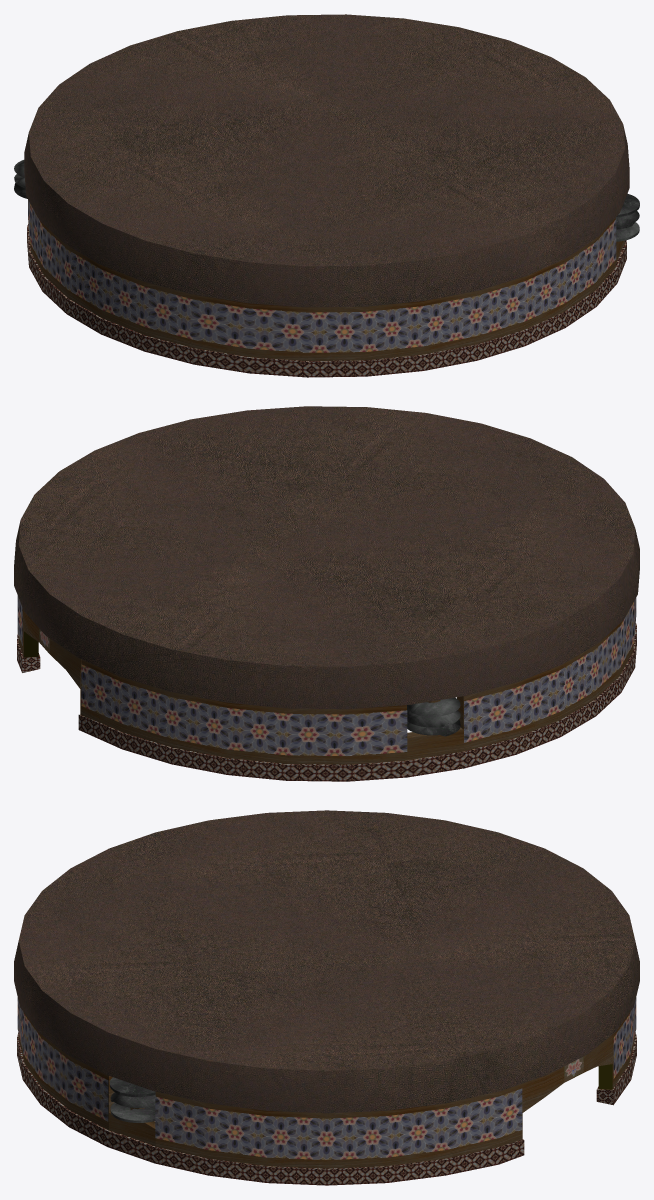
The model's file is tamborim.glb.
3 renders of one model, top to bottom at view 1: azimuth 30°, elevation 25°; view 2: azimuth 150°, elevation 25°; view 3: azimuth 270°, elevation 25°, orthographic. The views are drawn at different scales.
Parts seen in each view (by area): view 1: Object_4, Object_5, Object_6, Object_2, Object_3; view 2: Object_4, Object_5, Object_6, Object_2, Object_3; view 3: Object_4, Object_5, Object_6, Object_2, Object_3.
Part boxes in pixels (left/top/right/bottom): Object_4: left=24, top=14, right=629, bottom=307; Object_5: left=28, top=200, right=616, bottom=352; Object_6: left=27, top=224, right=626, bottom=377; Object_2: left=30, top=218, right=624, bottom=361; Object_3: left=14, top=160, right=639, bottom=241; Object_4: left=14, top=406, right=639, bottom=709; Object_5: left=17, top=596, right=636, bottom=755; Object_6: left=17, top=623, right=636, bottom=781; Object_2: left=18, top=608, right=633, bottom=764; Object_3: left=407, top=697, right=460, bottom=736; Object_4: left=14, top=810, right=639, bottom=1113; Object_5: left=17, top=998, right=636, bottom=1159; Object_6: left=17, top=1032, right=636, bottom=1185; Object_2: left=18, top=1012, right=635, bottom=1168; Object_3: left=109, top=1077, right=155, bottom=1122.
Bounding box in the file's own units: 0.42 × 0.0852 × 0.42.
Materials: 7 (6 with a texture image).
